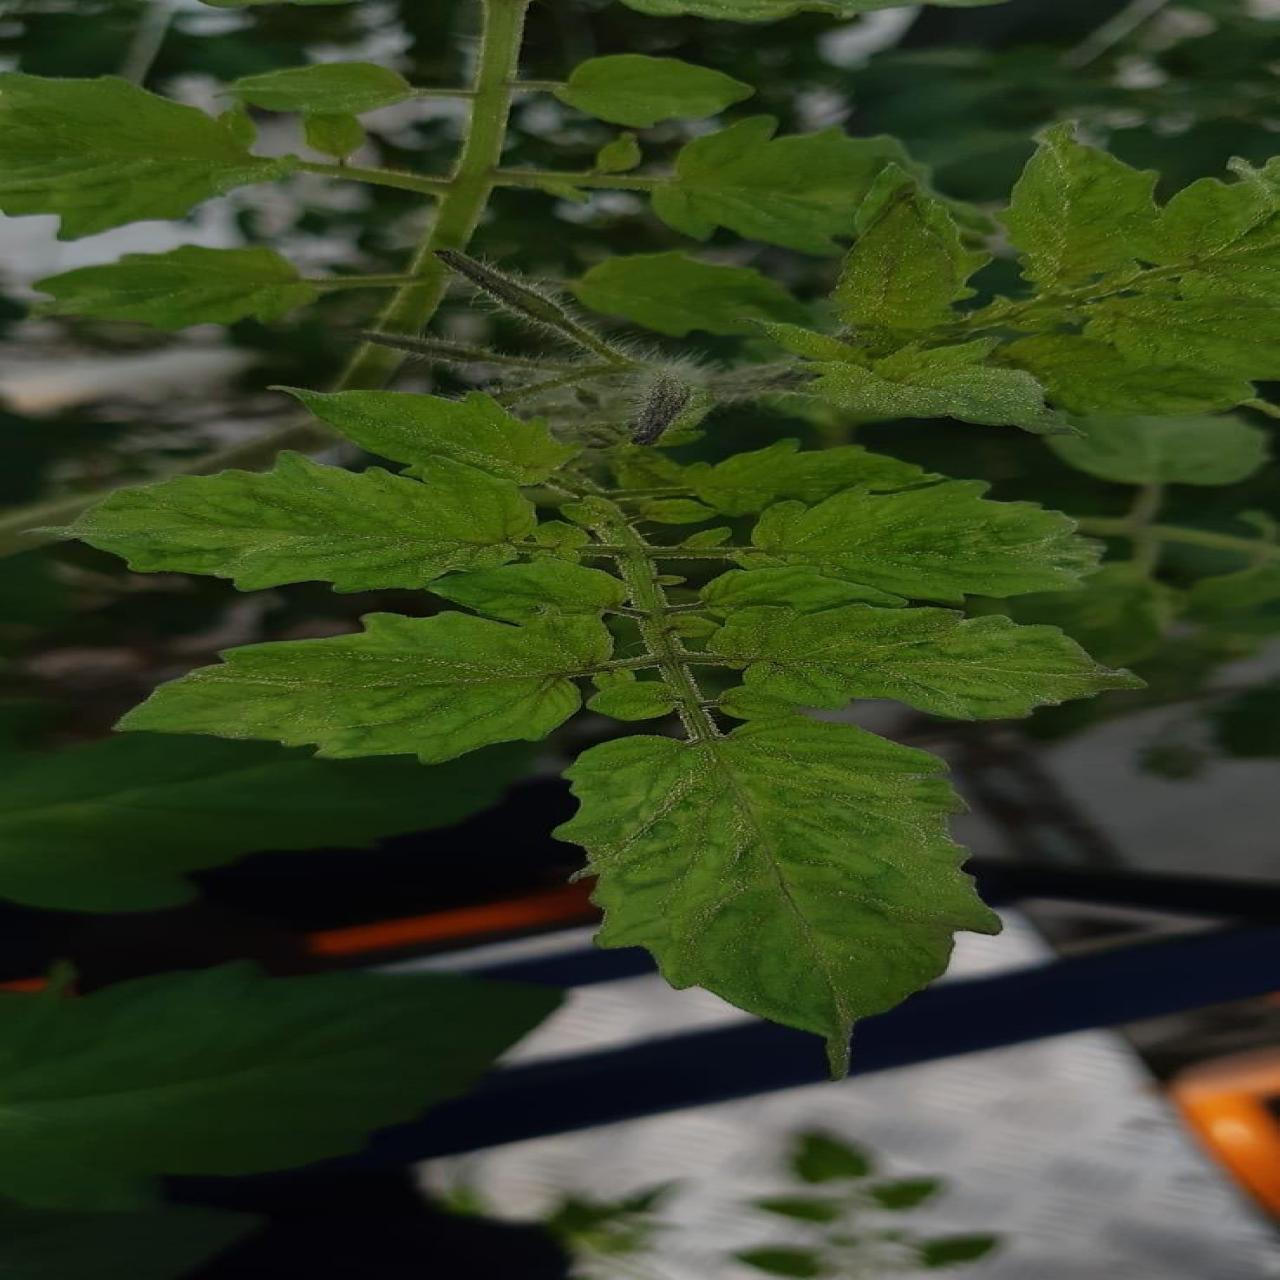T_Fl_R: (440, 251, 635, 366), (635, 379, 694, 445)
T_L_R: (558, 716, 998, 1068), (115, 612, 608, 764), (55, 452, 533, 592), (707, 605, 1141, 720), (743, 481, 1101, 600), (277, 389, 581, 486), (835, 169, 987, 345), (1003, 124, 1160, 292), (808, 341, 1074, 434), (1144, 161, 1279, 307), (1084, 297, 1279, 381), (429, 559, 624, 624)
T_S_R: (608, 524, 721, 741), (581, 546, 738, 561)
